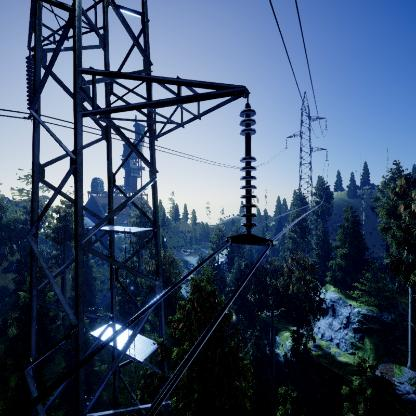insulator: (237, 108, 258, 233)
tower: (282, 90, 332, 211)
